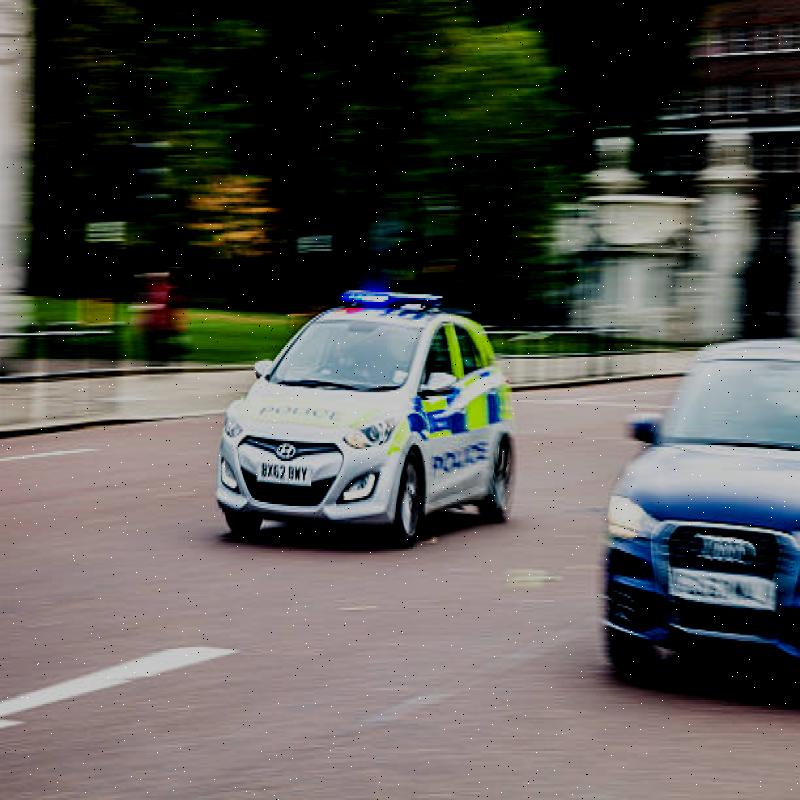AmbulanceSiren: (332, 273, 452, 311)
